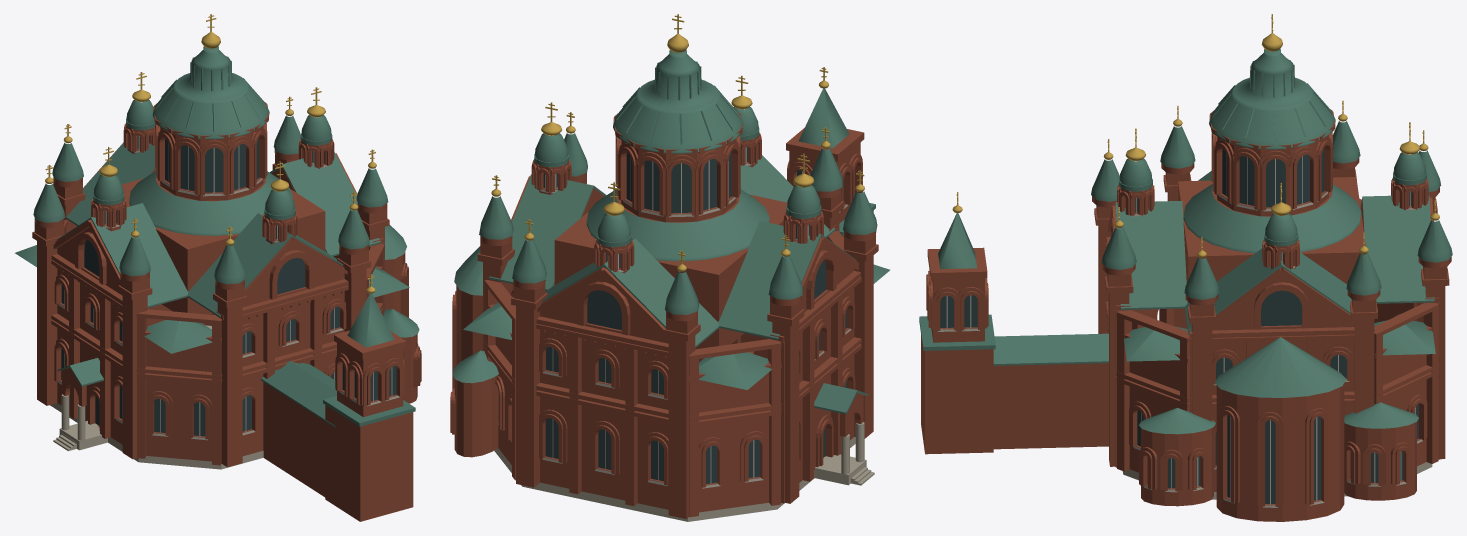
File: uspenski-cathedral-near.glb
3 renders of one model, left to right at view 1: azimuth 30°, elevation 25°; view 2: azimuth 150°, elevation 25°; view 3: azimuth 270°, elevation 25°, orthographic. The views are drawn at different scales.
Visible parts, largest first — view 1: uspenski-cathedral-0-brick, uspenski-cathedral-0-copper, uspenski-cathedral-0-glass, uspenski-cathedral-0-granite, uspenski-cathedral-0-lamp, uspenski-cathedral-0-trim; view 2: uspenski-cathedral-0-brick, uspenski-cathedral-0-copper, uspenski-cathedral-0-glass, uspenski-cathedral-0-granite, uspenski-cathedral-0-lamp, uspenski-cathedral-0-trim; view 3: uspenski-cathedral-0-brick, uspenski-cathedral-0-copper, uspenski-cathedral-0-glass, uspenski-cathedral-0-lamp, uspenski-cathedral-0-trim.
Part boxes in pixels (x1,y1,x2,y2): uspenski-cathedral-0-brick: [32, 102, 421, 521]; uspenski-cathedral-0-copper: [15, 46, 419, 427]; uspenski-cathedral-0-glass: [61, 135, 396, 436]; uspenski-cathedral-0-granite: [50, 325, 263, 469]; uspenski-cathedral-0-lamp: [45, 14, 376, 293]; uspenski-cathedral-0-trim: [58, 136, 399, 440]; uspenski-cathedral-0-brick: [450, 112, 878, 518]; uspenski-cathedral-0-copper: [452, 50, 889, 414]; uspenski-cathedral-0-glass: [543, 146, 847, 483]; uspenski-cathedral-0-granite: [494, 422, 874, 521]; uspenski-cathedral-0-lamp: [491, 14, 864, 271]; uspenski-cathedral-0-trim: [498, 147, 850, 488]; uspenski-cathedral-0-brick: [921, 109, 1451, 521]; uspenski-cathedral-0-copper: [919, 49, 1452, 434]; uspenski-cathedral-0-glass: [940, 148, 1418, 503]; uspenski-cathedral-0-lamp: [952, 14, 1439, 257]; uspenski-cathedral-0-trim: [938, 154, 1422, 507].
Size of the model in its own units: 35.8 by 37.84 by 43.79.
